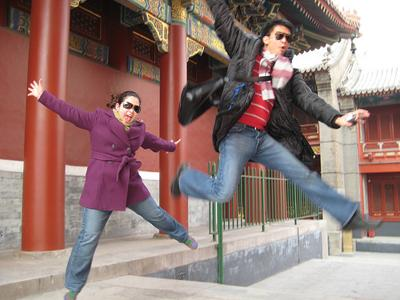person: (170, 2, 374, 236)
